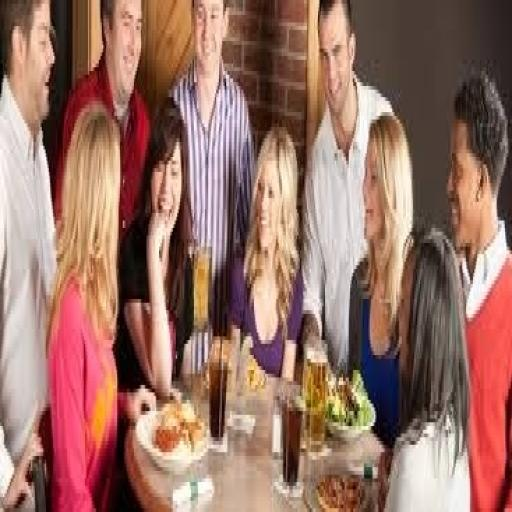eating: (300, 0, 397, 377), (0, 0, 60, 508), (444, 64, 510, 508), (382, 220, 473, 508), (117, 93, 202, 400), (54, 0, 154, 243), (228, 120, 304, 385)
